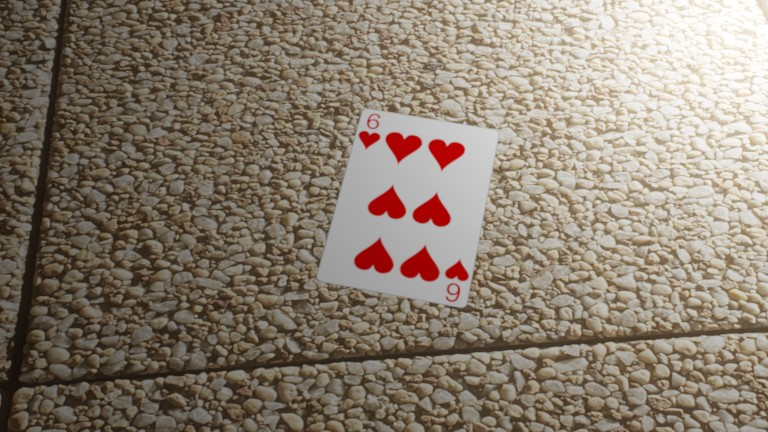6_of_hearts: (175, 102, 190, 122), (141, 44, 155, 61)
